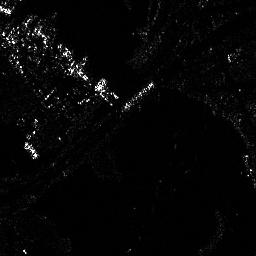ship: (122, 80, 155, 111)
